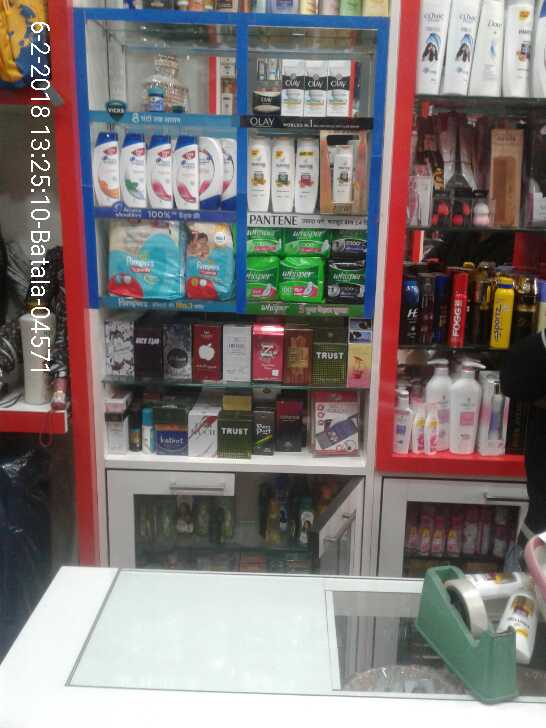vicks: (138, 84, 171, 114)
